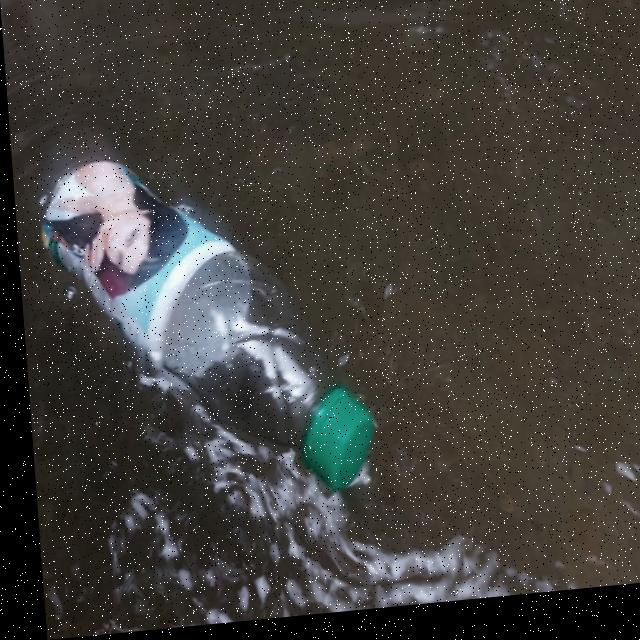waterbottle: (23, 88, 379, 544)
